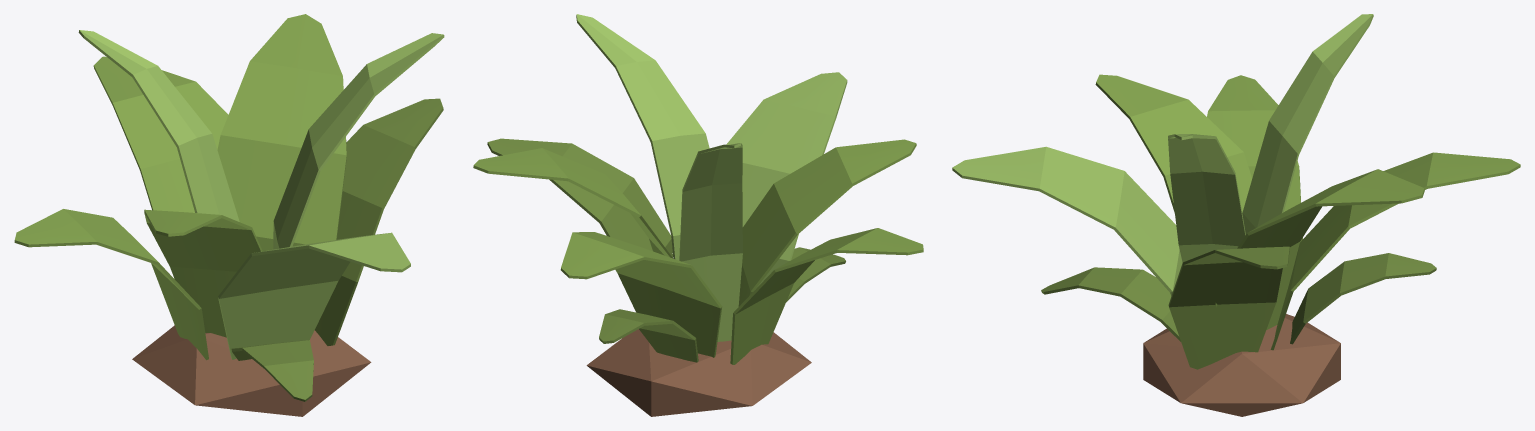
The model's file is tropical_tree_6.fbx.
The picture shows the model from 3 angles, left to right: view 1: azimuth 30°, elevation 25°; view 2: azimuth 150°, elevation 25°; view 3: azimuth 270°, elevation 25°; orthographic projection. The views are drawn at different scales.
Visible parts, largest first — view 1: tropical_trees_6; view 2: tropical_trees_6; view 3: tropical_trees_6.
Boxes of the visible parts, bbox=[...] form: tropical_trees_6: bbox=[14, 14, 444, 416]; tropical_trees_6: bbox=[473, 14, 923, 416]; tropical_trees_6: bbox=[952, 14, 1520, 416].
Size of the model in its own units: 354 by 259 by 404.
